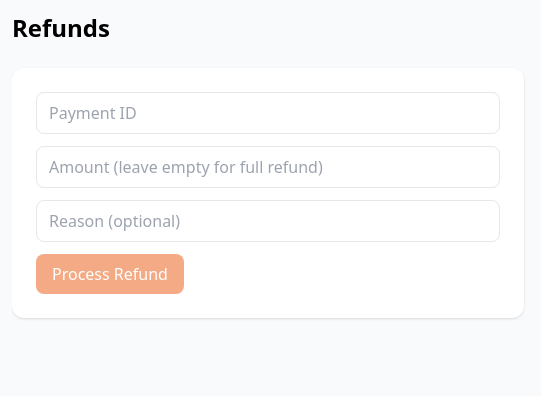
Scenario: Refunds Page › shows success result on successful refund
This screenshot has width=541, height=396.
Type "pay_123" into the field with placeholder "Payment ID" at {"x": 268, "y": 113}, box [36,92,500,134]
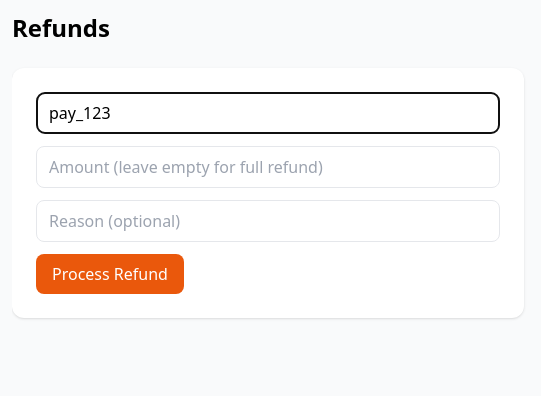
Type "500" into the number field with placeholder "Amount (leave empty for full refund)" at {"x": 268, "y": 167}, box [36,146,500,188]
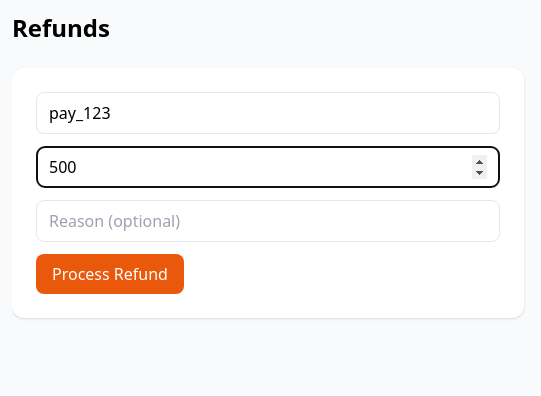
Click the button "Process Refund" at {"x": 110, "y": 274}, box [36,254,184,294]
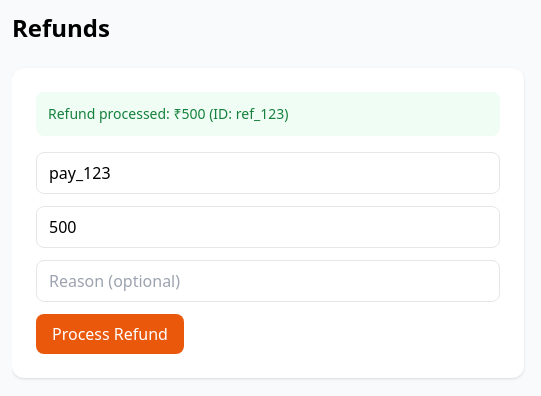
expect the text "Refund processed: ₹500 (ID: ref_123)" is shown: met, box [36,92,500,136]
